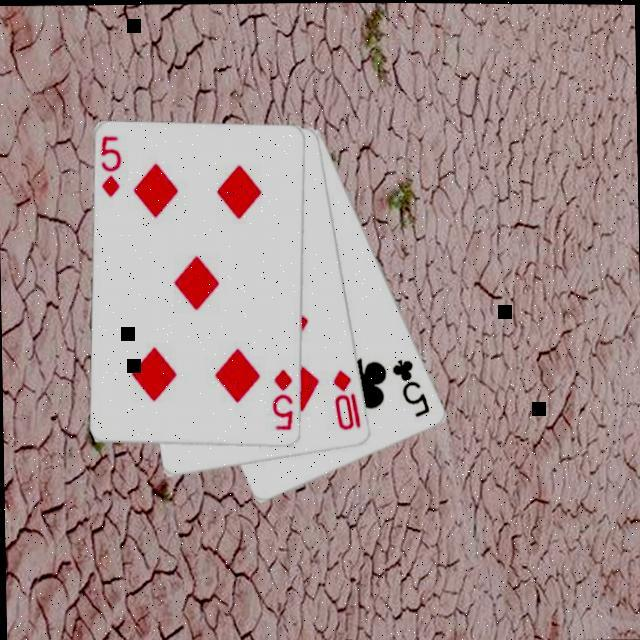10D: (330, 364, 365, 432)
5C: (389, 354, 434, 419)
5D: (269, 365, 297, 431), (98, 132, 125, 199)
